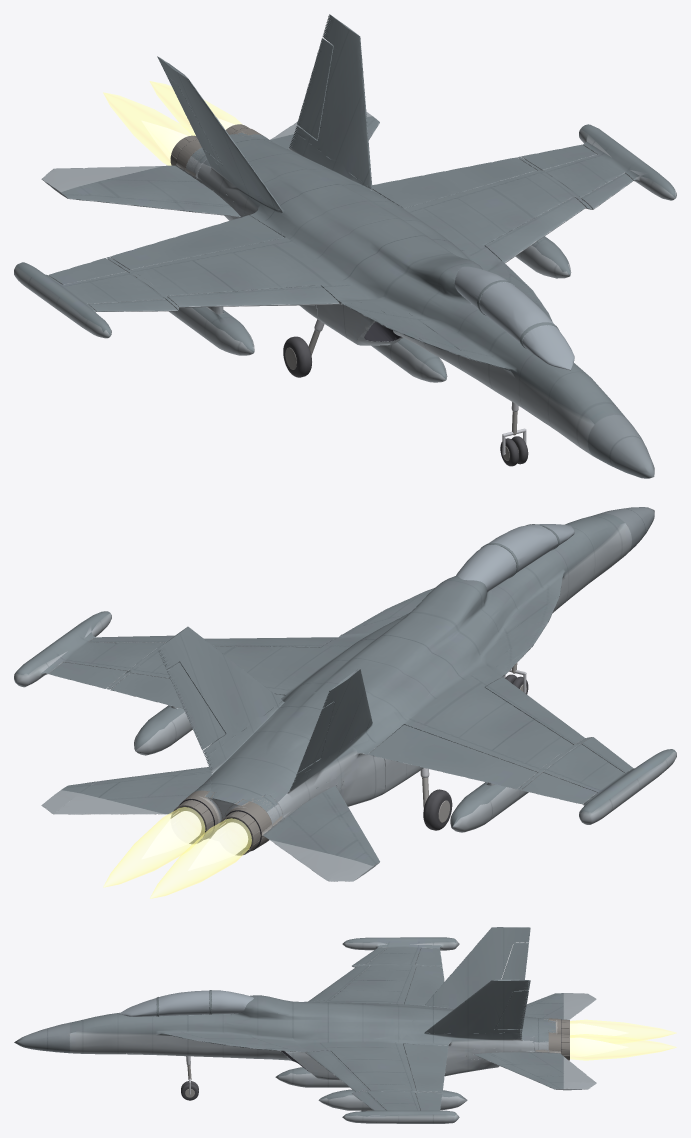
3 views of the same model, one above another, from view 1: azimuth 30°, elevation 25°; view 2: azimuth 150°, elevation 25°; view 3: azimuth 270°, elevation 25° (orthographic). The views are drawn at different scales.
Visible parts, largest first — view 1: airframe, fsim:flaps (×2), fsim:lef@-5,34 (×4), fsim:elevator+aileron:-0.4@-24,20, fsim:afterburner:1, fsim:rudder (×2), fsim:aileron (×2), fsim:afterburner:0, fsim:wheel:2:0.4065; view 2: airframe, fsim:elevator+aileron:-0.4@-24,20, fsim:flaps (×2), fsim:elevator+aileron:0.4@-24,20, fsim:afterburner:1, fsim:afterburner:0, fsim:lef@-5,34 (×3), fsim:rudder (×2), fsim:aileron (×2), fsim:wheel:2:0.4065, fsim:gear:90:0:0.2; view 3: airframe, fsim:flaps (×2), fsim:elevator+aileron:0.4@-24,20, fsim:afterburner:0, fsim:afterburner:1, fsim:rudder (×2), fsim:lef@-5,34 (×2), fsim:elevator+aileron:-0.4@-24,20, fsim:aileron (×2).
Part boxes in pixels (x1,y1,x2,y2): airframe: [14, 14, 676, 478]; fsim:flaps (×2): [110, 157, 536, 269]; fsim:lef@-5,34 (×4): [88, 173, 633, 311]; fsim:elevator+aileron:-0.4@-24,20: [41, 165, 240, 217]; fsim:afterburner:1: [103, 92, 195, 165]; fsim:rudder (×2): [167, 38, 333, 164]; fsim:aileron (×2): [49, 144, 596, 284]; fsim:afterburner:0: [149, 81, 242, 135]; fsim:wheel:2:0.4065: [283, 336, 311, 377]; airframe: [14, 507, 676, 850]; fsim:elevator+aileron:-0.4@-24,20: [264, 786, 379, 881]; fsim:flaps (×2): [110, 673, 537, 789]; fsim:elevator+aileron:0.4@-24,20: [41, 767, 211, 814]; fsim:afterburner:1: [150, 818, 251, 898]; fsim:afterburner:0: [103, 807, 205, 887]; fsim:lef@-5,34 (×3): [204, 637, 632, 773]; fsim:rudder (×2): [167, 662, 334, 773]; fsim:aileron (×2): [49, 662, 597, 804]; fsim:wheel:2:0.4065: [423, 789, 452, 830]; fsim:gear:90:0:0.2: [382, 758, 423, 794]; airframe: [14, 927, 561, 1123]; fsim:flaps (×2): [403, 966, 448, 1092]; fsim:elevator+aileron:0.4@-24,20: [474, 1052, 596, 1090]; fsim:afterburner:0: [570, 1034, 676, 1060]; fsim:afterburner:1: [570, 1019, 676, 1043]; fsim:rudder (×2): [494, 943, 528, 1029]; fsim:lef@-5,34 (×2): [306, 965, 370, 1091]; fsim:elevator+aileron:-0.4@-24,20: [524, 993, 596, 1019]; fsim:aileron (×2): [415, 948, 442, 1110].
Bounding box in the file's own units: 13.28 × 5.07 × 20.8.
9 materials, 1 textured.
